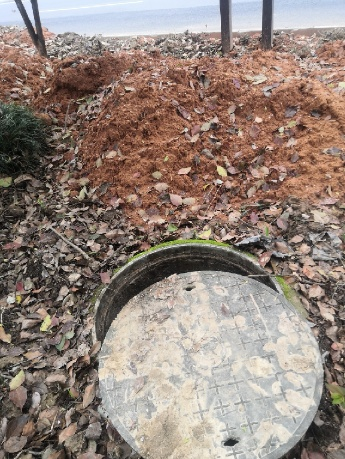uncovered: (89, 237, 323, 459)
